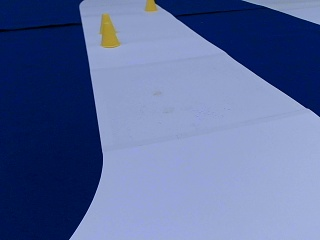cone: (99, 17, 119, 48), (144, 0, 156, 11)
